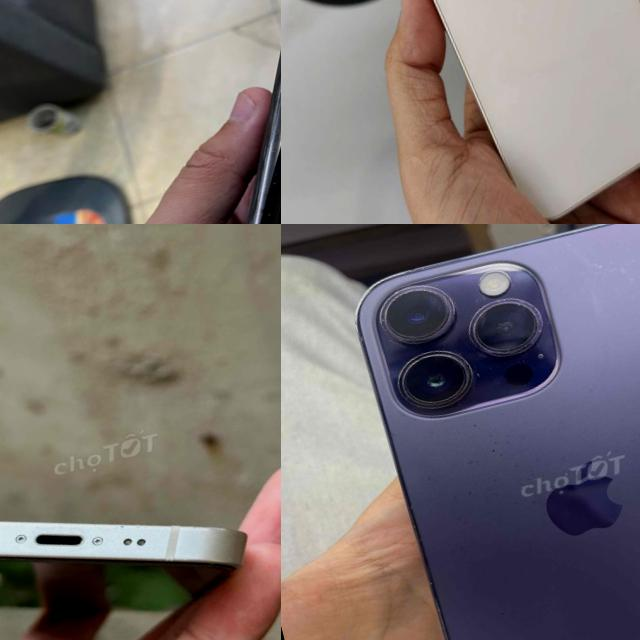scratch: (457, 283, 556, 368), (559, 224, 640, 316), (382, 339, 476, 418), (458, 409, 538, 500), (370, 276, 462, 354), (248, 173, 281, 224), (263, 20, 281, 85), (622, 424, 640, 488), (457, 482, 484, 512), (494, 599, 524, 621)
